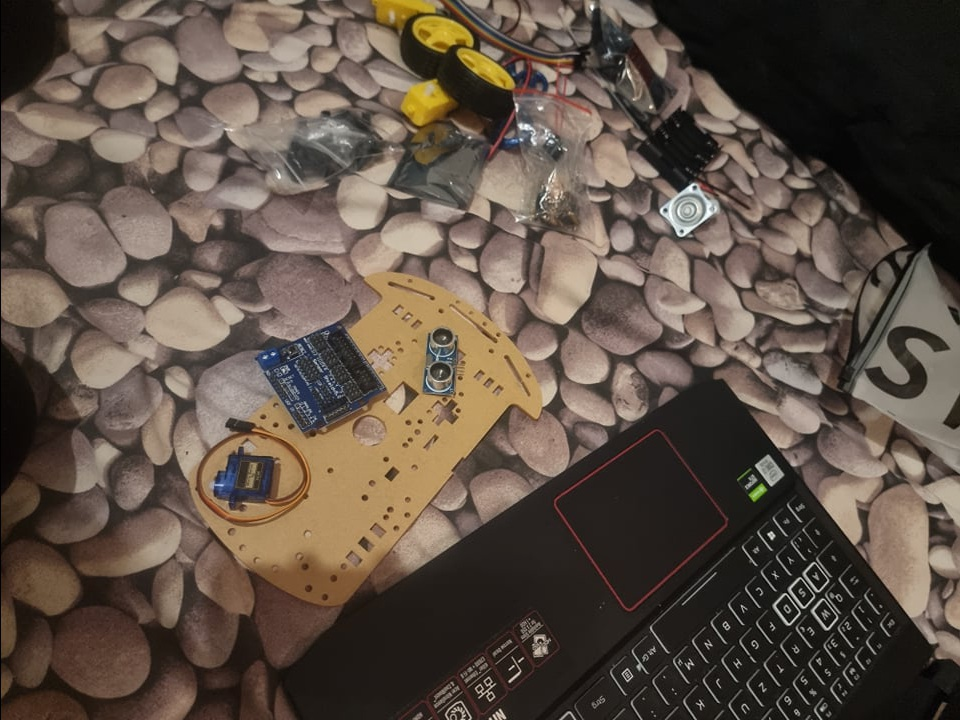5V EXPANSION: (257, 318, 384, 436)
BATTERY BOX: (640, 103, 721, 189)
SENSOR: (422, 322, 461, 401)
